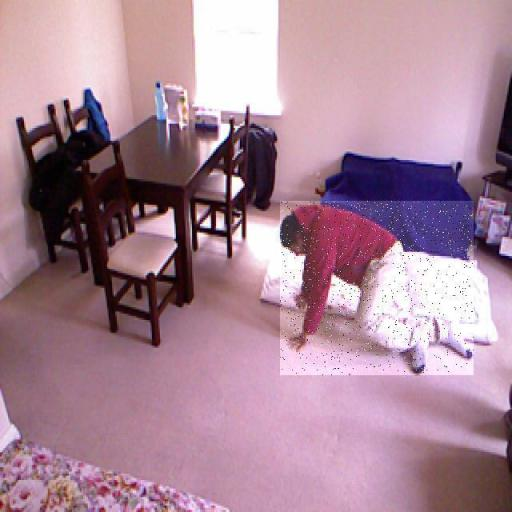Fall: (280, 201, 474, 375)
